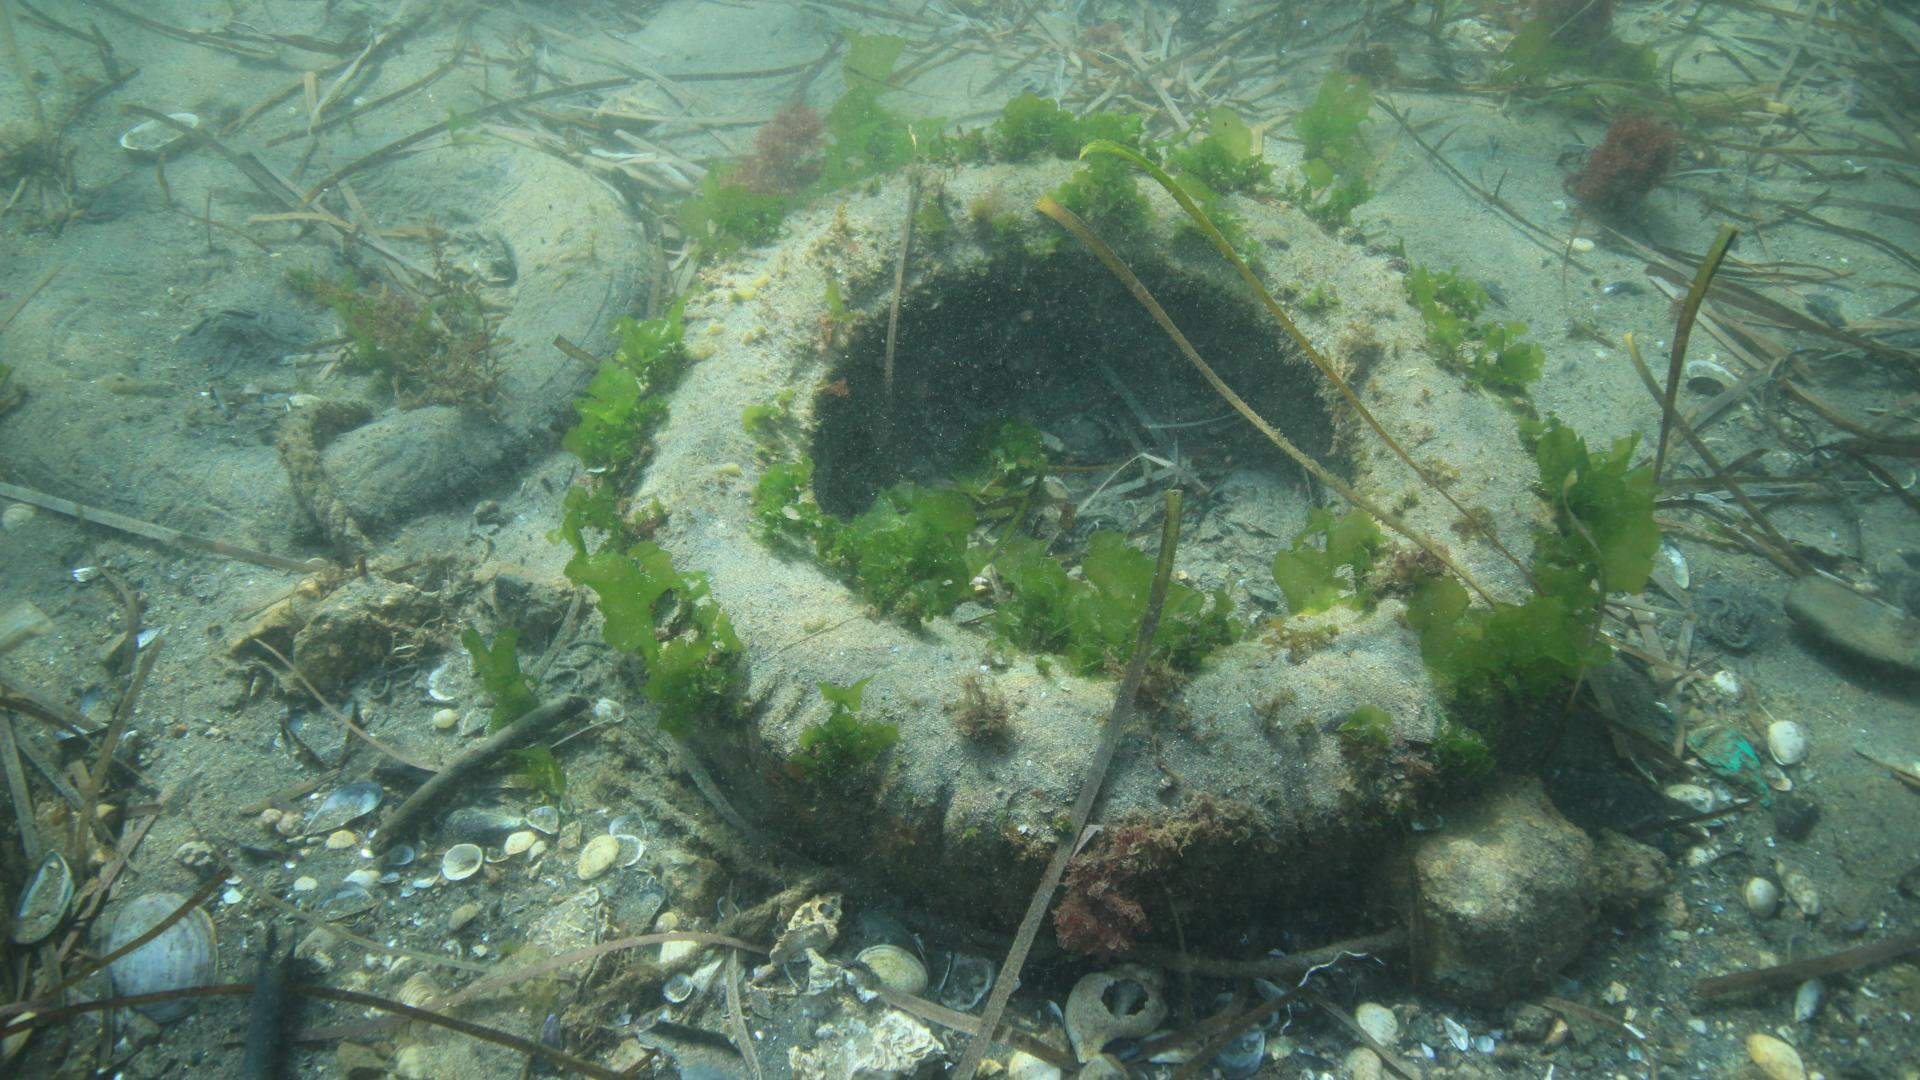rope: (277, 393, 376, 574)
tire: (607, 148, 1556, 943)
